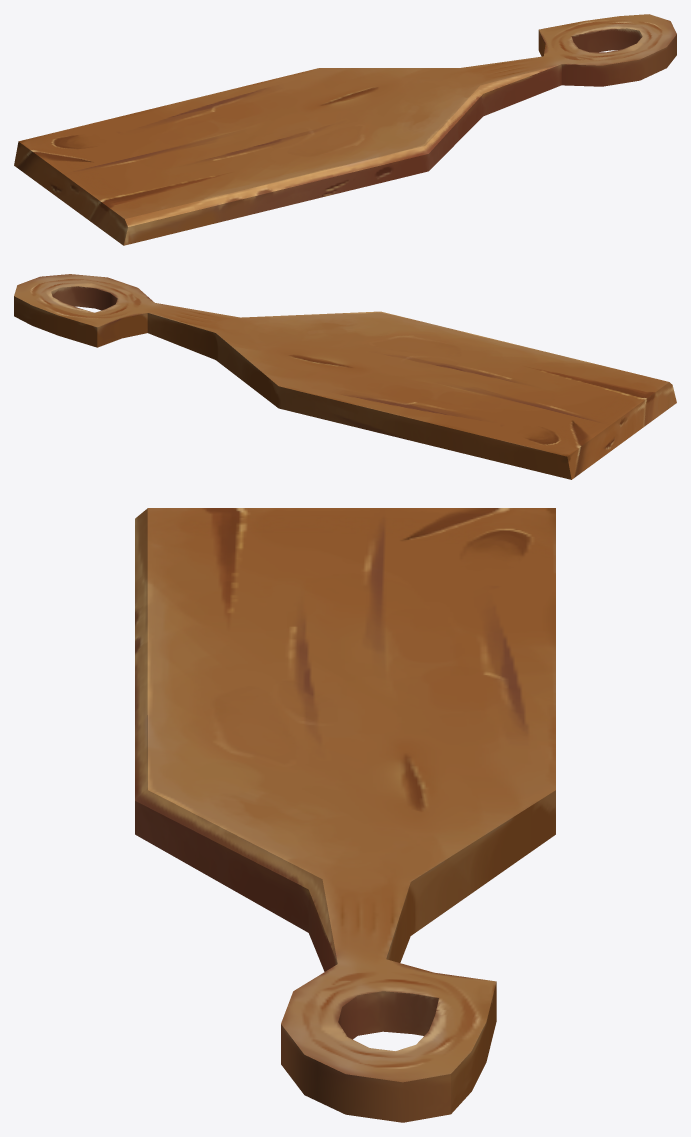
File: sushisSetEmp.fbx
3 views of the same model, one above another, from view 1: azimuth 30°, elevation 25°; view 2: azimuth 150°, elevation 25°; view 3: azimuth 270°, elevation 25° (orthographic). The views are drawn at different scales.
Parts seen in each view (by area): view 1: sushisSetEmp; view 2: sushisSetEmp; view 3: sushisSetEmp.
Part boxes in pixels (<box>): sushisSetEmp: <box>14,14,676,245</box>; sushisSetEmp: <box>14,274,676,479</box>; sushisSetEmp: <box>135,508,555,1122</box>.
Size of the model in its own units: 151 by 6.59 by 46.47.
